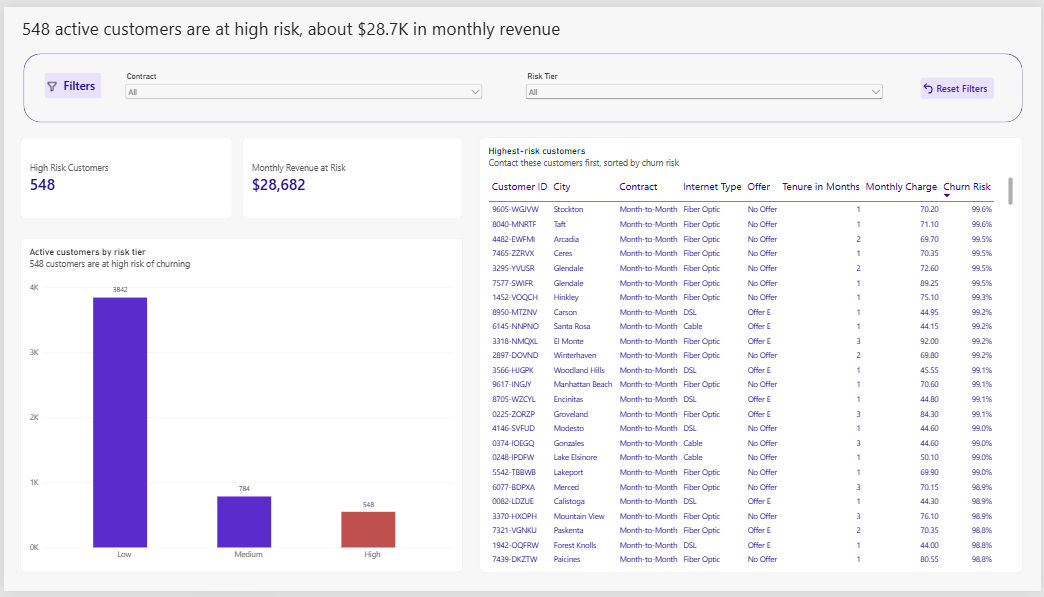

The dashboard page shown, as its layout file describes it:
{"tool":"powerbi","page":{"name":"Page 4","canvas":[1920,1080],"ordinal":3},"visuals":[{"type":"textbox","box":[32.5,17.5,1037.5,67.5],"z":0},{"type":"cardVisual","fields":{"Data":["churn.High Risk Customers"]},"box":[31.6,242.1,392.1,150],"z":1000},{"type":"cardVisual","fields":{"Data":["churn.Monthly Revenue at Risk"]},"box":[442.1,242.1,407.9,150],"z":2000},{"type":"clusteredColumnChart","title":"Active customers by risk tier","fields":{"Category":["churn.Risk Tier"],"Y":["CountNonNull(churn.Customer ID)"]},"box":[31.6,428.9,818.4,618.4],"z":3000},{"type":"tableEx","title":"Highest-risk customers","fields":{"Values":["churn.Customer ID","churn.City","churn.Contract","churn.Internet Type","churn.Offer","churn.Tenure in Months","churn.Monthly Charge","churn.Churn Risk"]},"box":[881.6,242.1,1005.3,805.3],"z":4000},{"type":"shape","box":[36.5,85.1,1850.1,127.6],"z":5000},{"type":"actionButton","box":[75.8,123.2,105.3,47.4],"z":6000},{"type":"actionButton","box":[1697.4,131.6,136,40],"z":7000},{"type":"slicer","fields":{"Values":["churn.Risk Tier"]},"box":[960.5,118.4,671.1,52.6],"z":8000},{"type":"slicer","fields":{"Values":["churn.Contract"]},"box":[218.4,118.4,671.1,50],"z":9000}]}

Visuals, with their boxes in screenshot pixels (x1, y1, x2, y2), scaled from the page's 1920x1080 canvas onto the 1044x597 screenshot:
textbox: bbox(18, 10, 582, 47)
cardVisual - churn.High Risk Customers: bbox(17, 134, 230, 217)
cardVisual - churn.Monthly Revenue at Risk: bbox(240, 134, 462, 217)
"Active customers by risk tier" clusteredColumnChart: bbox(17, 237, 462, 579)
"Highest-risk customers" tableEx: bbox(479, 134, 1026, 579)
shape: bbox(20, 47, 1026, 118)
actionButton: bbox(41, 68, 98, 94)
actionButton: bbox(923, 73, 997, 95)
slicer - churn.Risk Tier: bbox(522, 65, 887, 95)
slicer - churn.Contract: bbox(119, 65, 484, 93)
